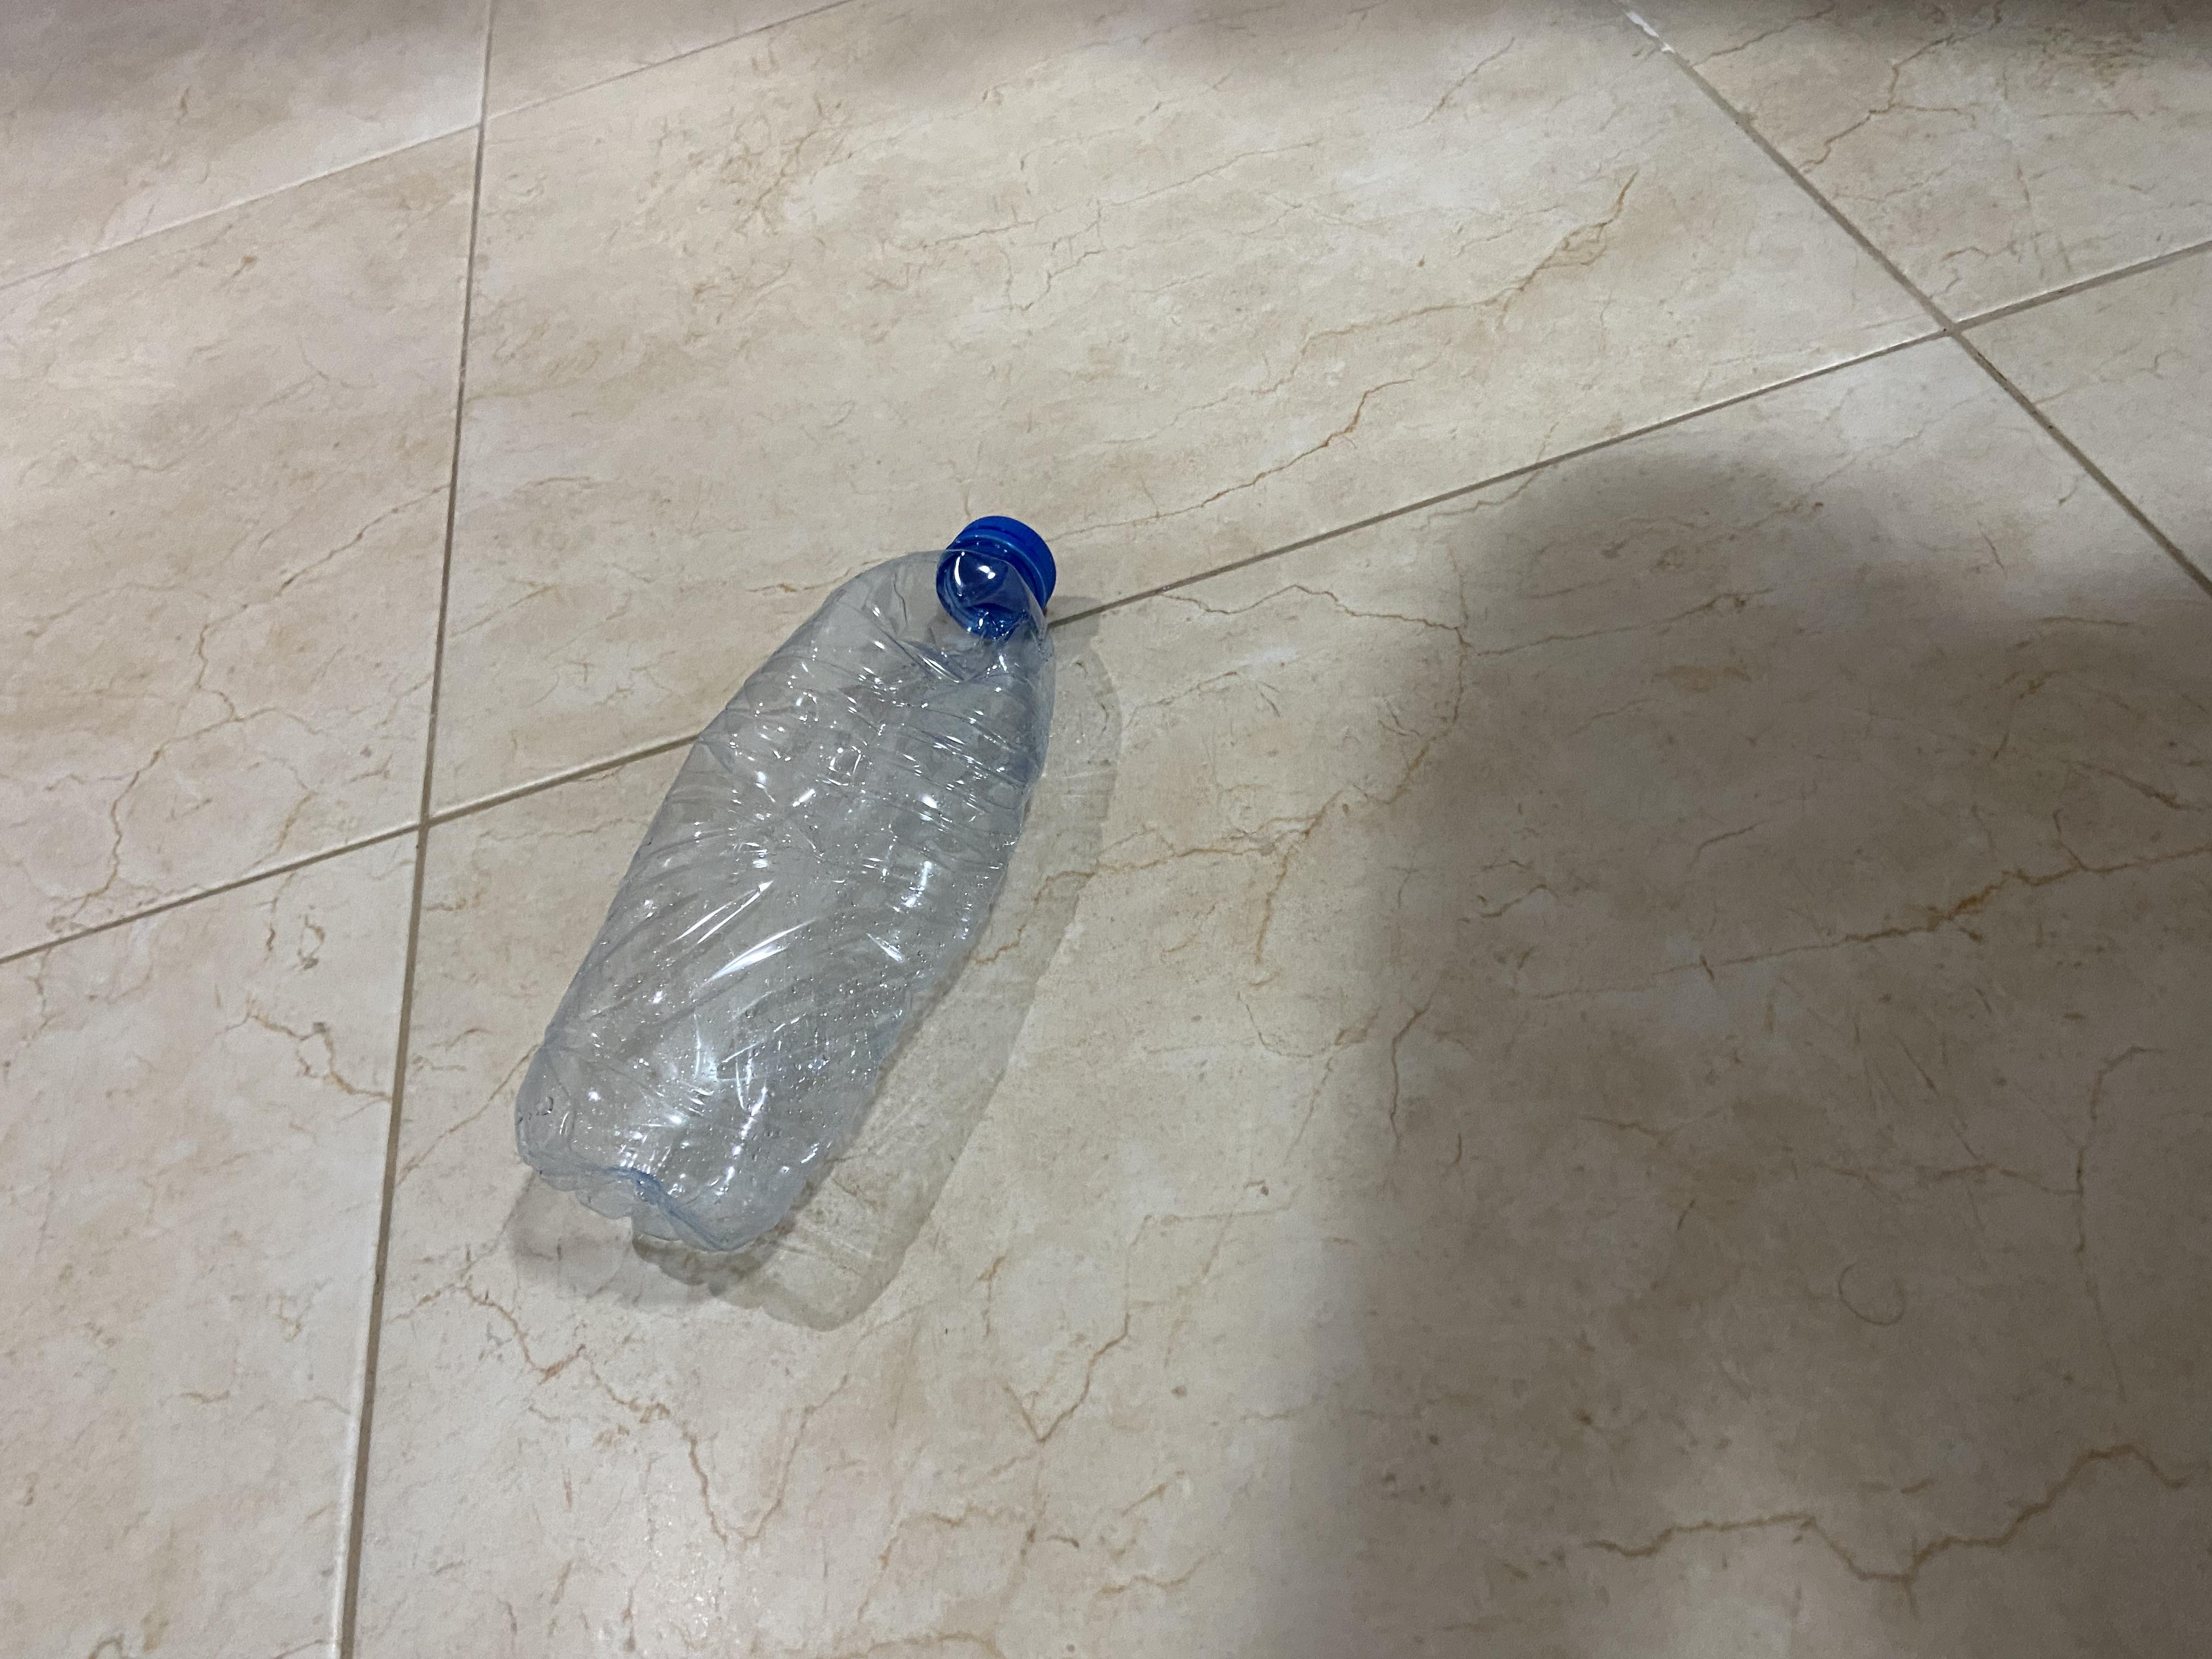bottle: (479, 371, 1571, 824)
